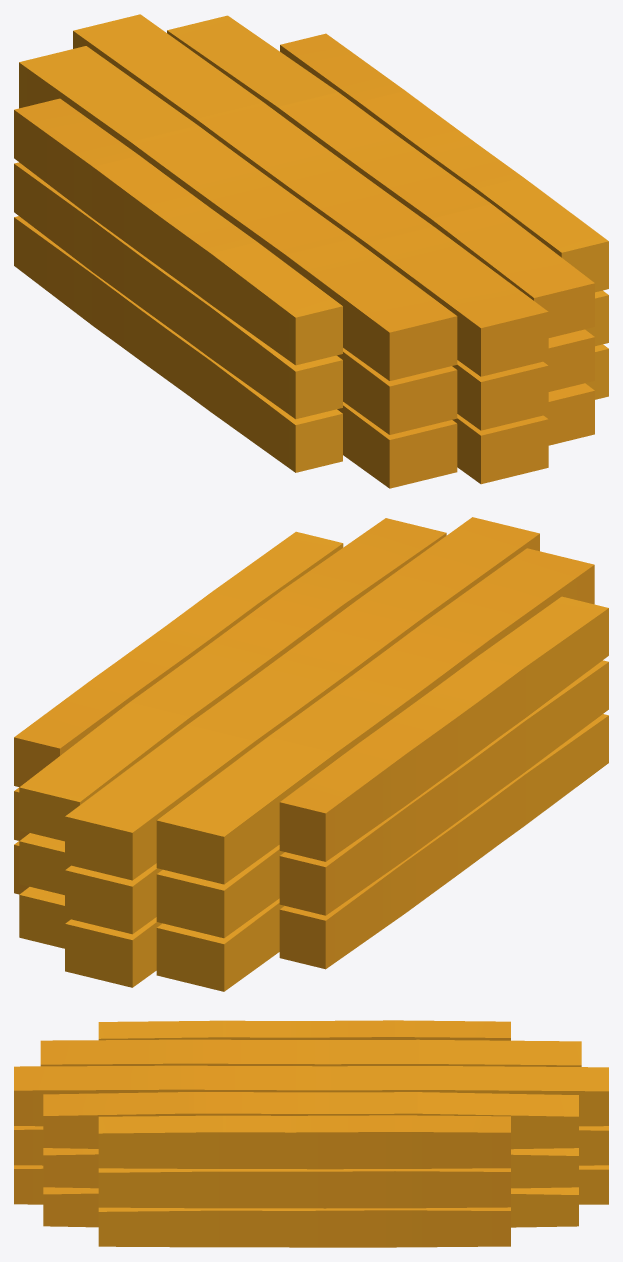
The model's file is PotatoReturn.fbx.
3 renders of one model, top to bottom at view 1: azimuth 30°, elevation 25°; view 2: azimuth 150°, elevation 25°; view 3: azimuth 270°, elevation 25°, orthographic. The views are drawn at different scales.
Visible parts, largest first — view 1: Cube.051, Cube.050, Cube.054, Cube.052, Cube.049, Cube.010, Cube.053, Cube.044, Cube.055, Cube.045, Cube.056, Cube.046 (+3 smaller); view 2: Cube.051, Cube.050, Cube.054, Cube.052, Cube.049, Cube.010, Cube.053, Cube.044, Cube.055, Cube.045, Cube.056, Cube.046 (+1 smaller); view 3: Cube.053, Cube.051, Cube.052, Cube.048, Cube.058, Cube.050, Cube.054, Cube.046, Cube.057, Cube.045, Cube.056.
Part boxes in pixels (x1,y1,x2,y2): Cube.051: (73, 14, 548, 376); Cube.050: (19, 46, 457, 380); Cube.054: (14, 98, 342, 365); Cube.052: (167, 15, 594, 337); Cube.049: (14, 162, 342, 419); Cube.010: (14, 216, 342, 472); Cube.053: (280, 33, 608, 292); Cube.044: (337, 348, 457, 434); Cube.055: (337, 402, 457, 488); Cube.045: (452, 360, 548, 430); Cube.056: (452, 414, 548, 484); Cube.046: (543, 329, 594, 391); Cube.051: (65, 517, 539, 880); Cube.050: (156, 548, 594, 884); Cube.054: (279, 596, 608, 861); Cube.052: (19, 518, 446, 841); Cube.049: (279, 660, 608, 915); Cube.010: (279, 714, 608, 969); Cube.053: (14, 531, 343, 787); Cube.044: (156, 845, 284, 938); Cube.055: (156, 898, 284, 991); Cube.045: (65, 863, 162, 934); Cube.056: (65, 917, 162, 987); Cube.046: (19, 833, 70, 895); Cube.053: (98, 1115, 510, 1169); Cube.051: (14, 1065, 608, 1126); Cube.052: (43, 1092, 578, 1149); Cube.048: (98, 1168, 510, 1208); Cube.058: (98, 1207, 510, 1247); Cube.050: (40, 1039, 581, 1066); Cube.054: (98, 1020, 510, 1040); Cube.046: (43, 1148, 578, 1188); Cube.057: (43, 1187, 578, 1227); Cube.045: (14, 1126, 608, 1165); Cube.056: (14, 1165, 608, 1204).
Size of the model in its own units: 80.38 by 39.05 by 181.
